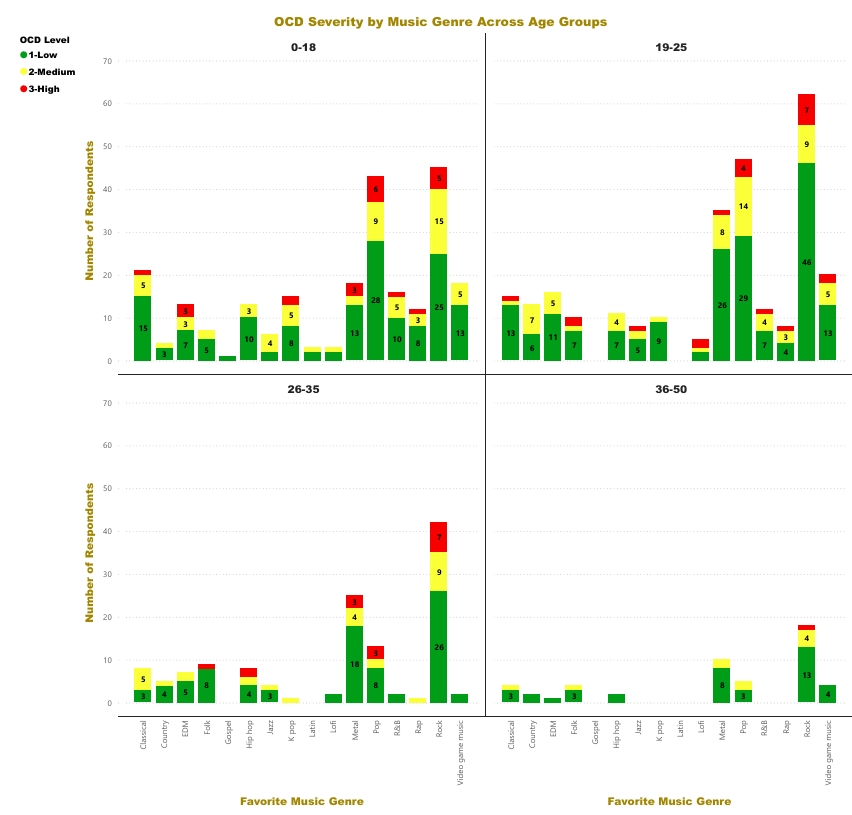

The dashboard page shown, as its layout file describes it:
{"tool":"powerbi","page":{"name":"OCD","canvas":[1280,1200],"ordinal":3},"visuals":[{"type":"columnChart","box":[10,0,280,280],"z":0},{"type":"columnChart","title":"OCD Severity by Music Genre Across Age Groups","fields":{"Category":["survey_results.Fav genre"],"Y":["CountNonNull(survey_results.Age)"],"Rows":["survey_results.Age Group"],"Series":["survey_results.OCD Level"]},"box":[8,0,1272,1200],"z":1000}]}

Visuals, with their boxes in screenshot pixels (x1, y1, x2, y2), scaled from the page's 1280x1200 canvas onto the 852x815 screenshot:
columnChart: <region>7, 0, 193, 190</region>
"OCD Severity by Music Genre Across Age Groups" columnChart: <region>5, 0, 851, 814</region>
